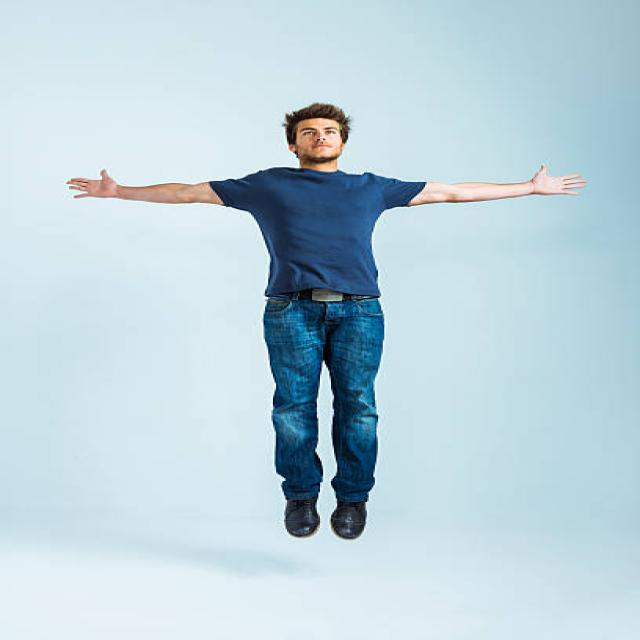Edited images: (65, 93, 596, 549)
